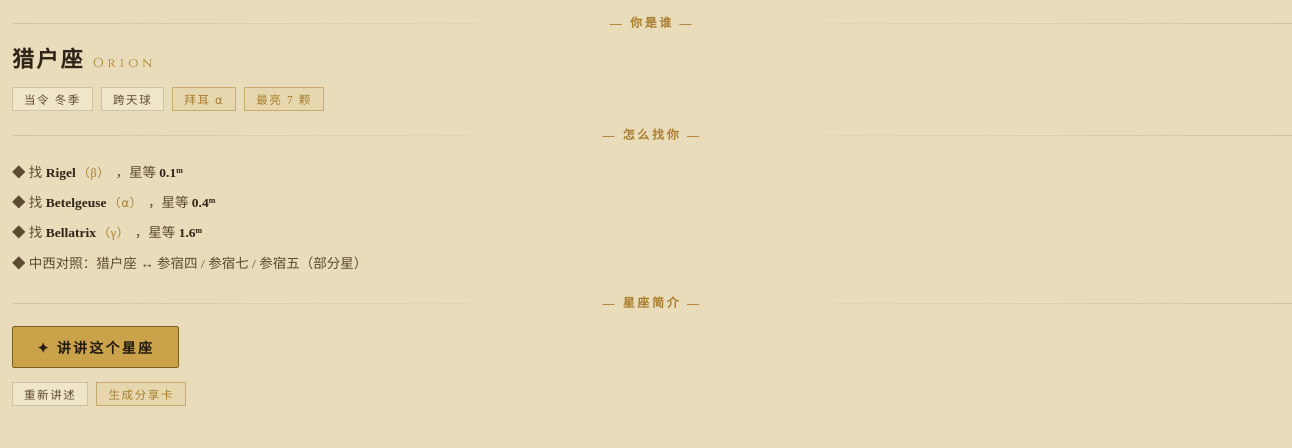
Scenario: AtlasNota · 星座简介 状态机 › degraded:true 时署名显示「AI 暂不可用，降级」
Click the button with test id "nota-btn-generate".
click(96, 347)  # box 12,326 -> 179,368
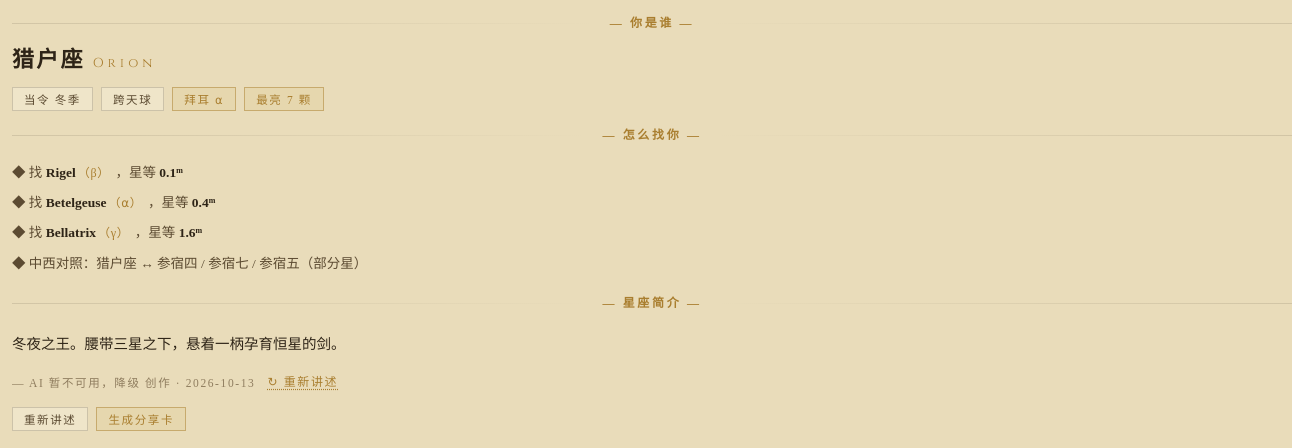
Expected: the text "AI 暂不可用，降级" is shown, 12,376 -> 256,388
